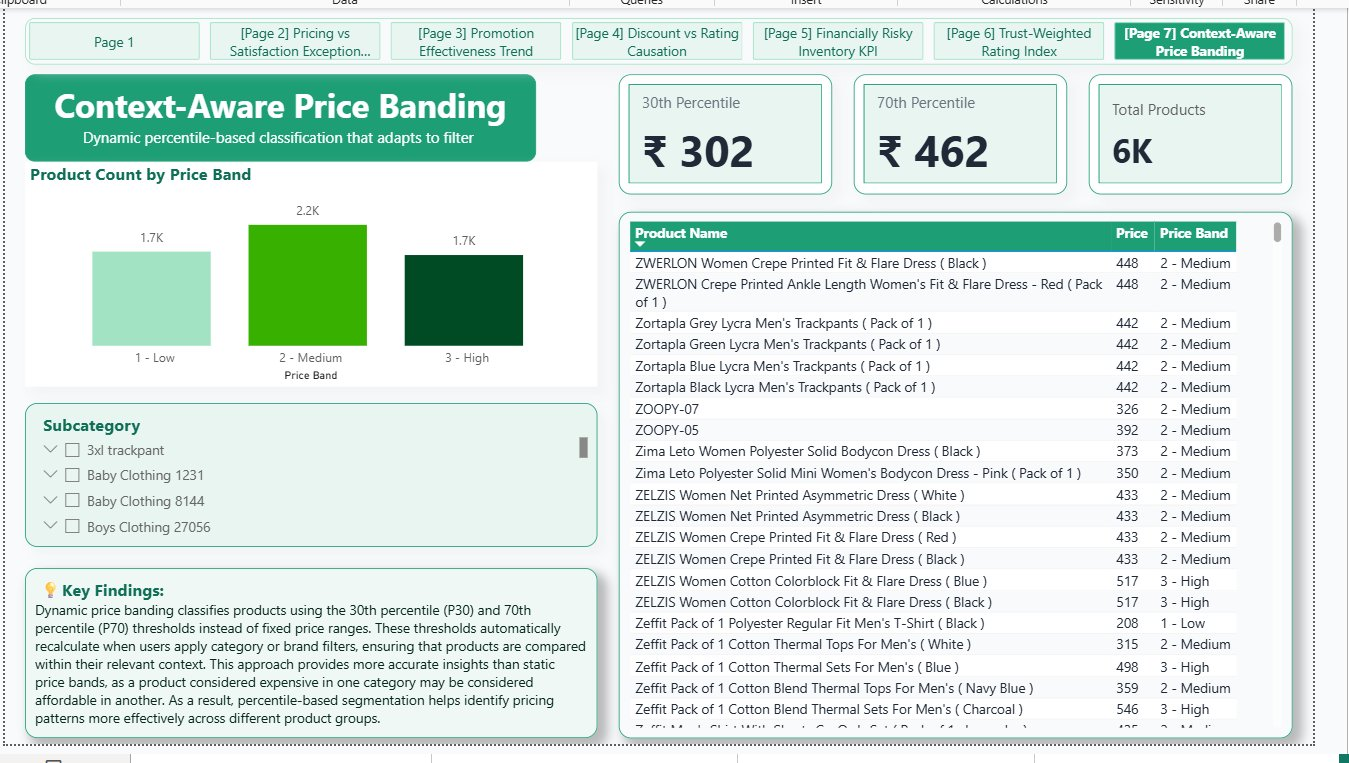

What the dashboard file says about the page in this screenshot:
{"tool":"powerbi","page":{"name":"[Page 7] Context-Aware Price Banding","canvas":[1280,720],"ordinal":6},"visuals":[{"type":"tableEx","fields":{"Values":["snapdeal_products.Product Name","snapdeal_products.Price","snapdeal_products.Price Band"]},"box":[600.4,199.3,659.1,514.8],"z":0},{"type":"textbox","box":[19.6,64.8,500.1,85.6],"z":1000},{"type":"cardVisual","title":"70th Percentile (High Boundary)","fields":{"Data":["snapdeal_products.P70 Threshold"]},"box":[830.3,64.8,209.1,117.4],"z":2000},{"type":"cardVisual","title":"Total Products","fields":{"Data":["snapdeal_products.Total Products"]},"box":[1060.2,64.8,199.3,117.4],"z":3000},{"type":"clusteredColumnChart","fields":{"Category":["snapdeal_products.Price Band"],"Y":["snapdeal_products.Product Count"]},"box":[20,150,560,220],"z":4000},{"type":"slicer","fields":{"Values":["snapdeal_products.Subcategory","snapdeal_products.Brand (heuristic/listing)"]},"box":[19.6,386.4,560.1,140.6],"z":5000},{"type":"textbox","box":[19.6,547.8,560.1,166.3],"z":6000},{"type":"cardVisual","title":"30th Percentile (Low Boundary)","fields":{"Data":["snapdeal_products.P30 Threshold"]},"box":[600.4,64.8,209.1,117.4],"z":7000},{"type":"pageNavigator","box":[20,10,1240,45.2],"z":8000}]}

Visuals, with their boxes on the page's 1280x720 design canvas (x1, y1, x2, y2). These are canvas units, not pixel positions in the 1349x763 screenshot, which may show the page scaled, cropped or inside an application window:
tableEx - snapdeal_products.Product Name x snapdeal_products.Price: 600 199 1260 714
textbox: 20 65 520 150
"70th Percentile (High Boundary)" cardVisual: 830 65 1039 182
"Total Products" cardVisual: 1060 65 1260 182
clusteredColumnChart - snapdeal_products.Price Band x snapdeal_products.Product Count: 20 150 580 370
slicer - snapdeal_products.Subcategory x snapdeal_products.Brand (heuristic/listing): 20 386 580 527
textbox: 20 548 580 714
"30th Percentile (Low Boundary)" cardVisual: 600 65 810 182
pageNavigator: 20 10 1260 55
